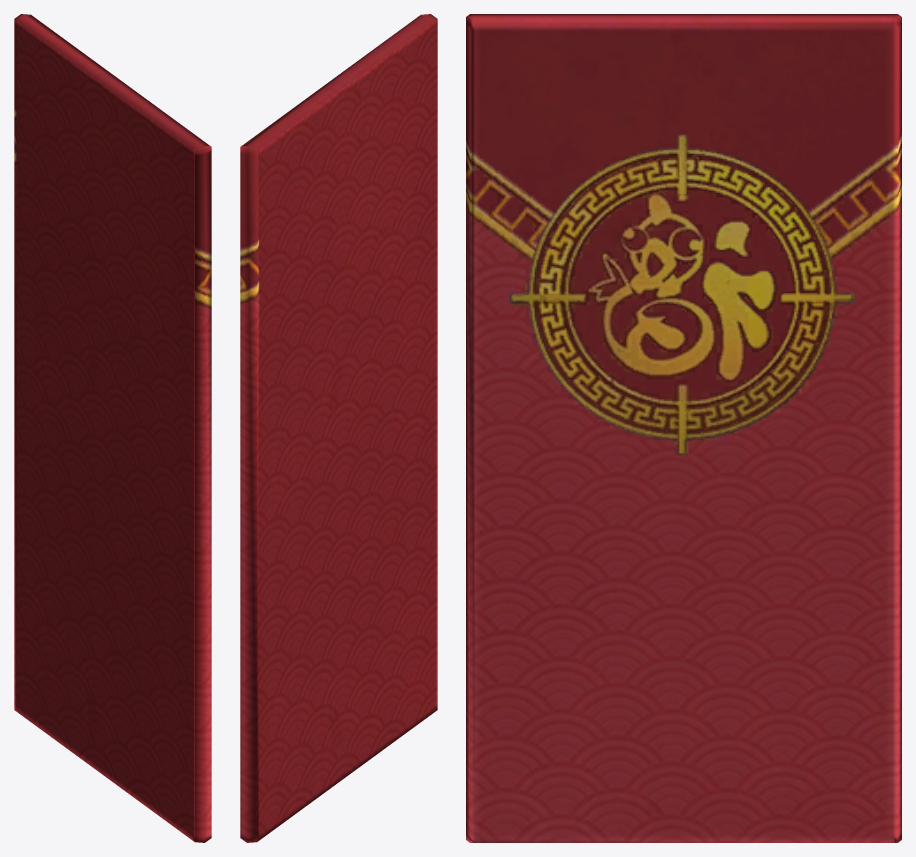
The model's file is Prop_DlcHb01.glb.
The picture shows the model from 3 angles, left to right: view 1: azimuth 30°, elevation 25°; view 2: azimuth 150°, elevation 25°; view 3: azimuth 270°, elevation 25°; orthographic projection. The views are drawn at different scales.
Visible parts, largest first — view 1: dlc_hb_01; view 2: dlc_hb_01; view 3: dlc_hb_01.
Boxes of the visible parts, box(x1,y1,x2,y2) form: dlc_hb_01: box(14, 14, 211, 842); dlc_hb_01: box(240, 14, 437, 842); dlc_hb_01: box(466, 14, 901, 842).
Bounding box in the file's own units: 0.00584 × 0.2313 × 0.111.
1 material, 1 textured.
